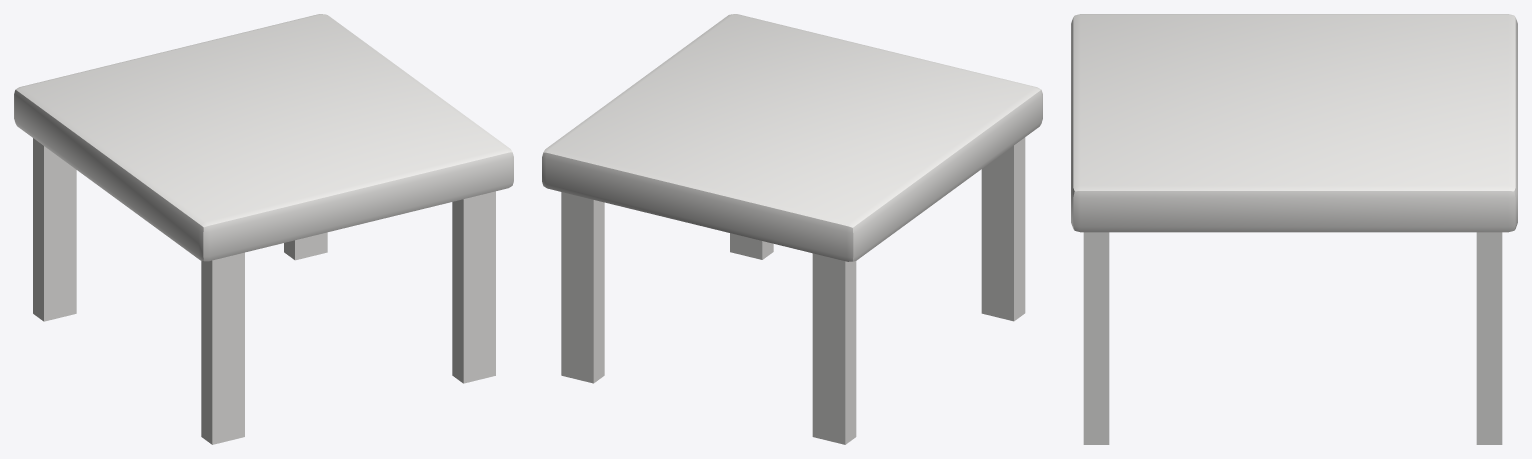
Rendered from SM_table_01.fbx.
The picture shows the model from 3 angles, left to right: view 1: azimuth 30°, elevation 25°; view 2: azimuth 150°, elevation 25°; view 3: azimuth 270°, elevation 25°; orthographic projection. The views are drawn at different scales.
Parts seen in each view (by area): view 1: Box163; view 2: Box163; view 3: Box163.
Part boxes in pixels (x1=…): Box163: x1=14, y1=14, x2=513, y2=444; Box163: x1=542, y1=14, x2=1042, y2=444; Box163: x1=1071, y1=14, x2=1517, y2=444.
Bounding box in the file's own units: 52.55 × 36.17 × 55.48.
